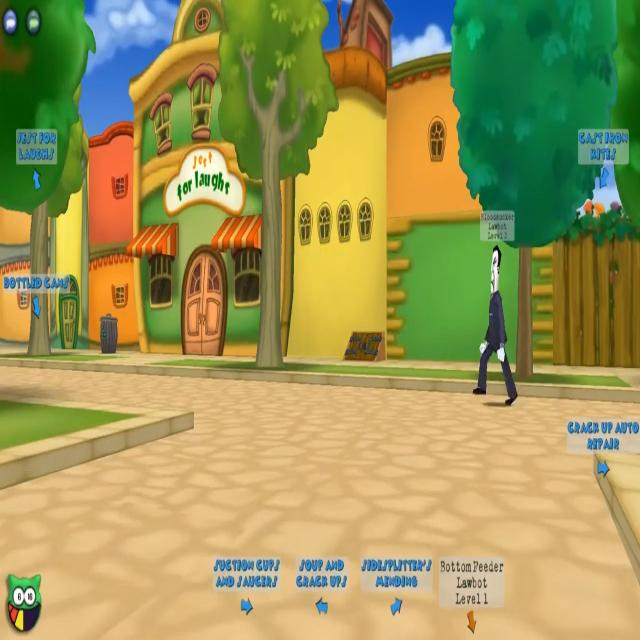bloodsucker: (471, 206, 522, 410)
